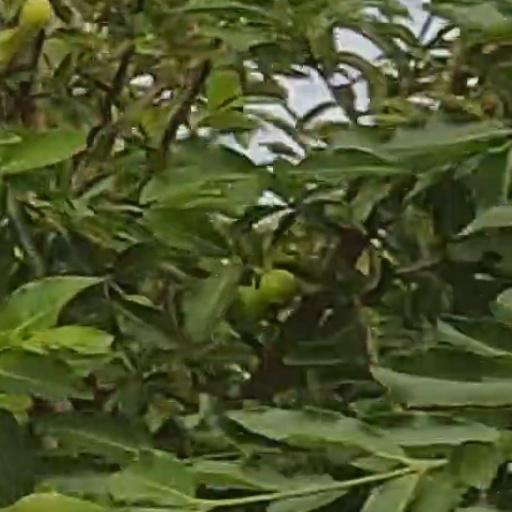acerola: (231, 288, 263, 323), (265, 271, 295, 304), (20, 1, 53, 27)
